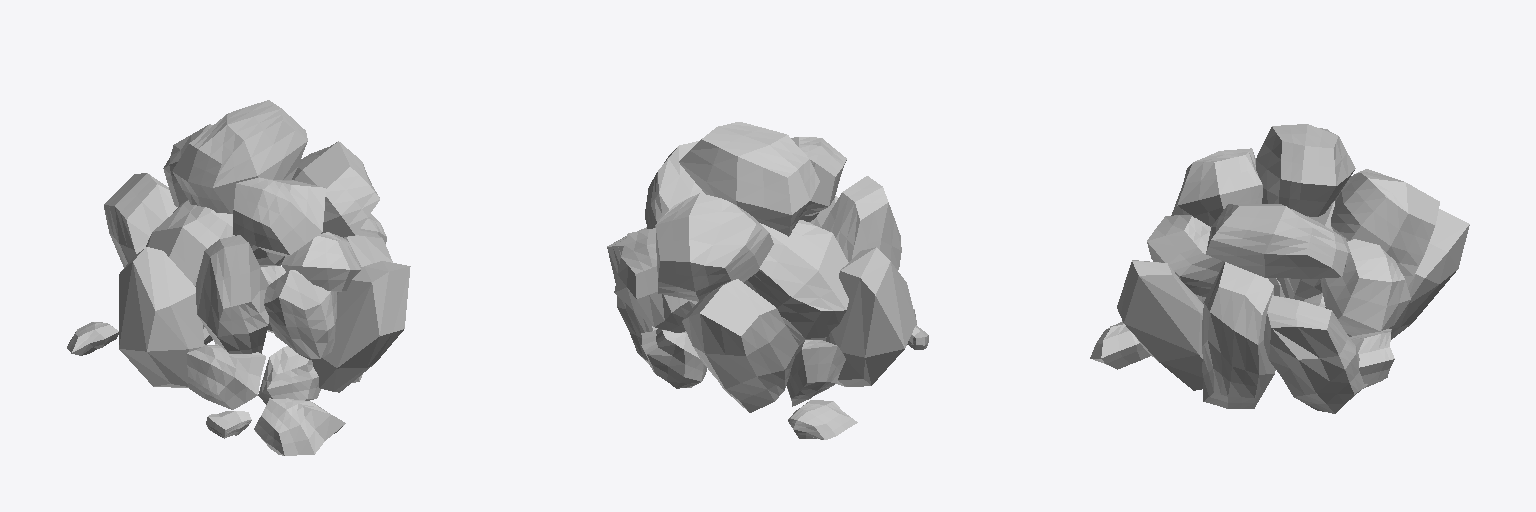
Rendered from Main_Cube1.obj.
3 renders of one model, left to right at view 1: azimuth 30°, elevation 25°; view 2: azimuth 150°, elevation 25°; view 3: azimuth 270°, elevation 25°, orthographic.
Visible parts, largest first — view 1: Cube.018; view 2: Cube.018; view 3: Cube.018.
Boxes of the visible parts, <box> form: Cube.018: <box>67,100,410,455</box>; Cube.018: <box>607,122,928,439</box>; Cube.018: <box>1090,124,1469,413</box>.
Bounding box in the file's own units: 2.14 × 1.91 × 2.56.